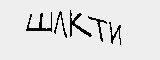И: (107, 22, 124, 47)
К: (67, 12, 91, 40)
Л: (51, 11, 69, 39)
Т: (89, 17, 107, 43)
Ш: (25, 8, 53, 34)
